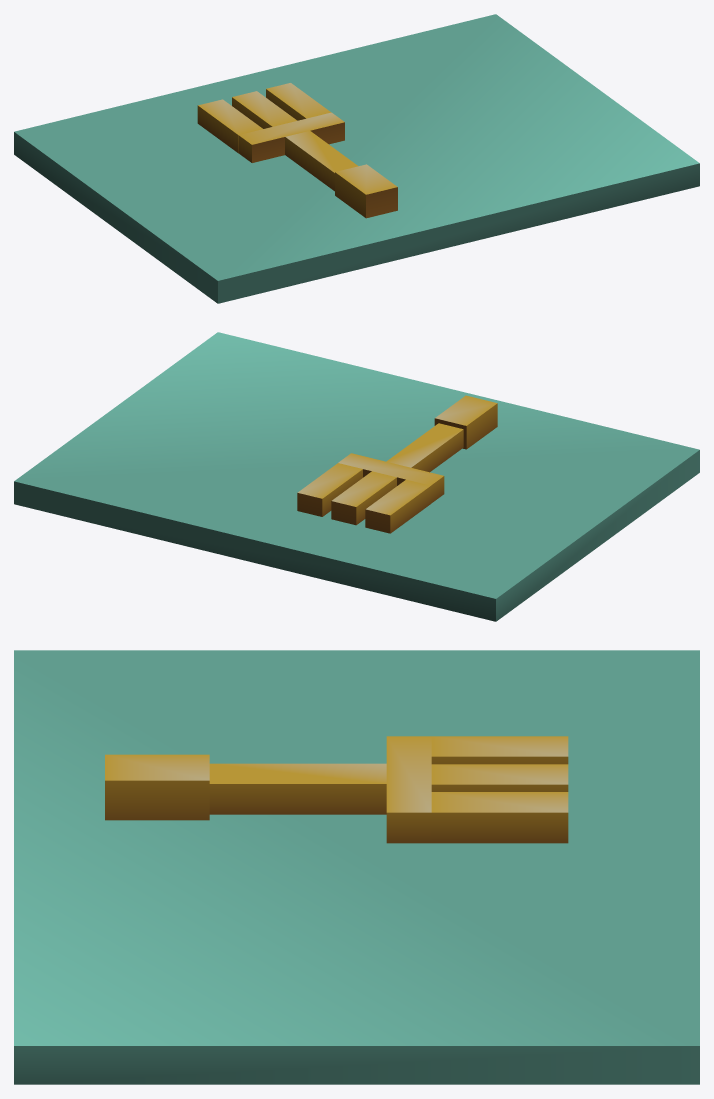
File: object_utensil_fork.fbx
3 views of the same model, one above another, from view 1: azimuth 30°, elevation 25°; view 2: azimuth 150°, elevation 25°; view 3: azimuth 270°, elevation 25° (orthographic). The views are drawn at different scales.
Visible parts, largest first — view 1: mesh_utensil_fork; view 2: mesh_utensil_fork; view 3: mesh_utensil_fork.
Boxes of the visible parts, bbox=[...] form: mesh_utensil_fork: bbox=[14, 14, 699, 303]; mesh_utensil_fork: bbox=[14, 332, 699, 621]; mesh_utensil_fork: bbox=[14, 650, 699, 1084].
Bounding box in the file's own units: 0.6447 × 0.0594 × 0.4724.
